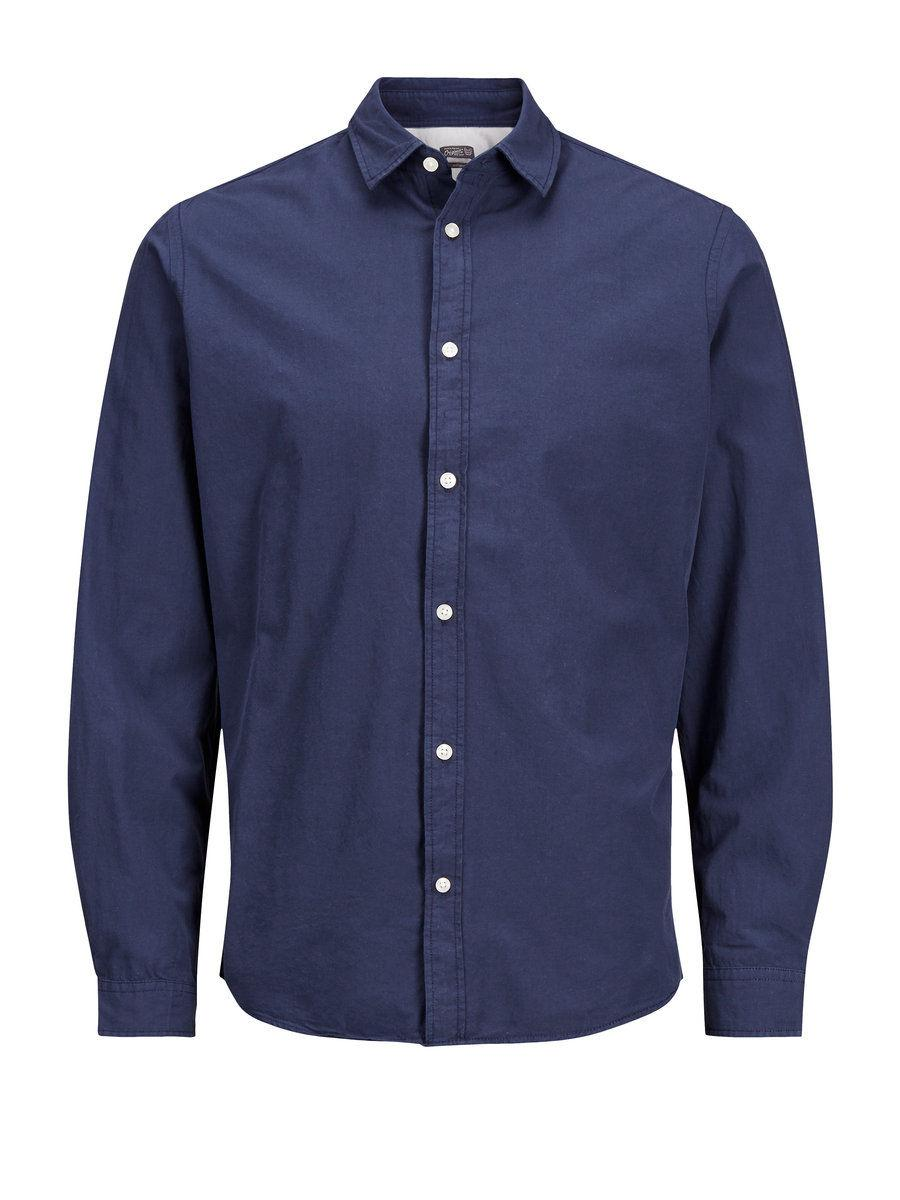teeshirt: (60, 63, 845, 1073)
